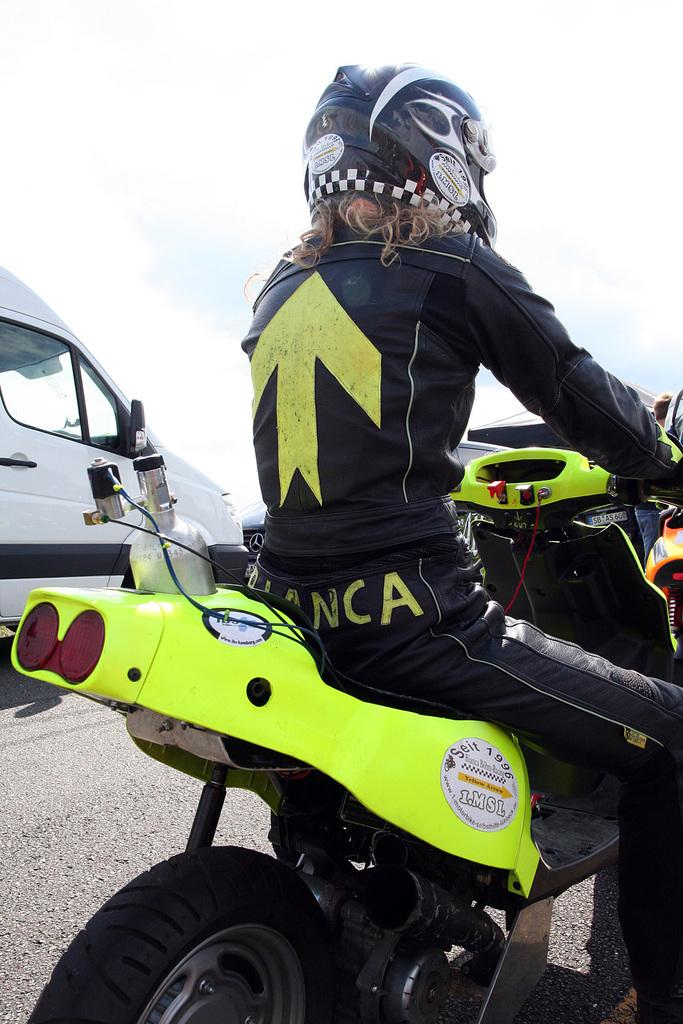helmet: (301, 62, 498, 256)
